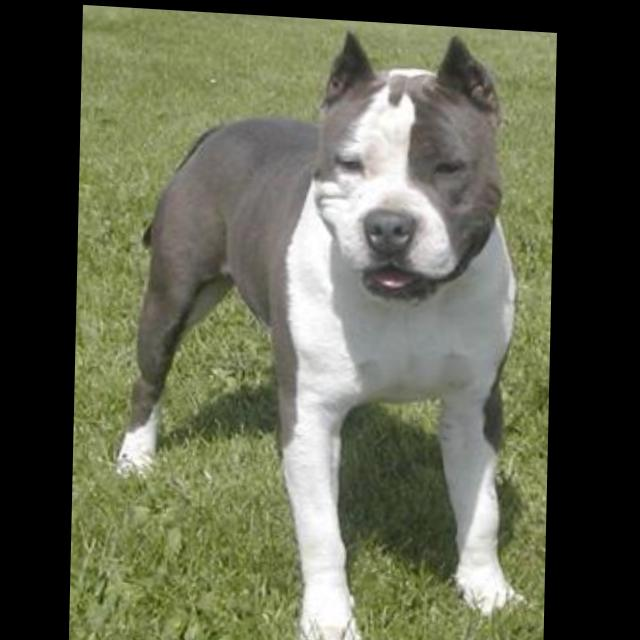staffford: (115, 13, 542, 640)
